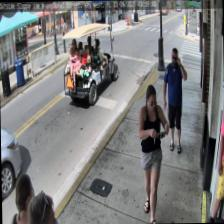person: (137, 84, 170, 224), (161, 47, 188, 153), (8, 172, 36, 224), (25, 189, 58, 224)
